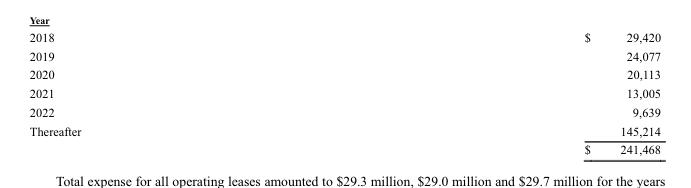table: (28, 28, 660, 157)
table column: (332, 28, 660, 157), (28, 28, 332, 157)
table row: (28, 64, 660, 83), (28, 83, 660, 102), (28, 120, 660, 139), (28, 28, 660, 46), (28, 46, 660, 64), (28, 102, 660, 120), (28, 139, 660, 157)
